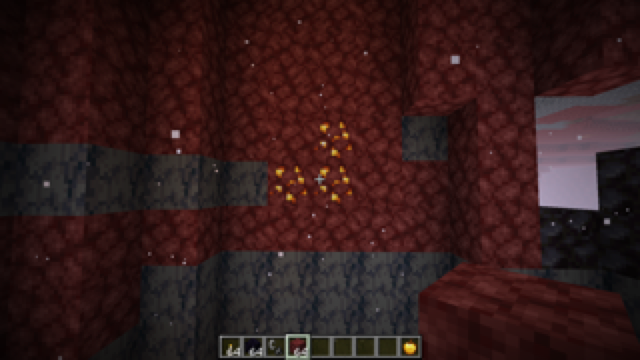nethergold: (268, 120, 354, 206)
